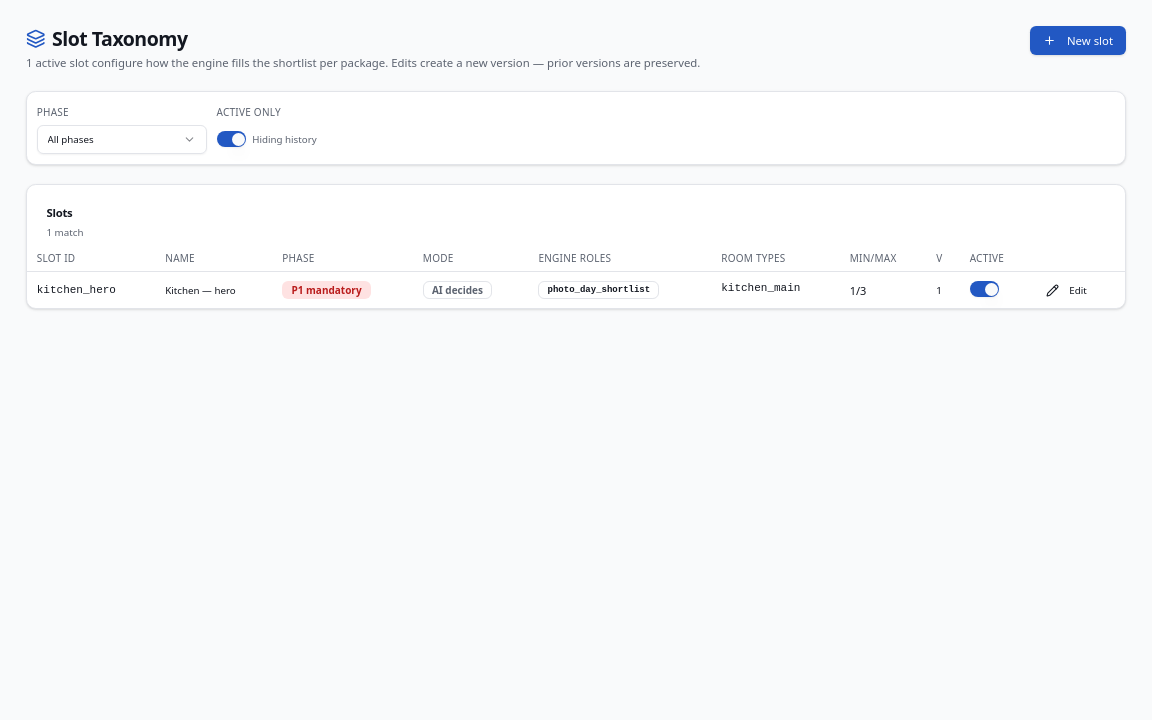
it: SettingsShortlistingSlots — W11.6.22b mode toggle › toggling to 'Curated positions' reveals the positions editor
What coordinates should you click on to do the following:
click the button "Edit"
I would click on:
 (1067, 290)
Its box is [1040,279,1093,301].
(page scrolled)
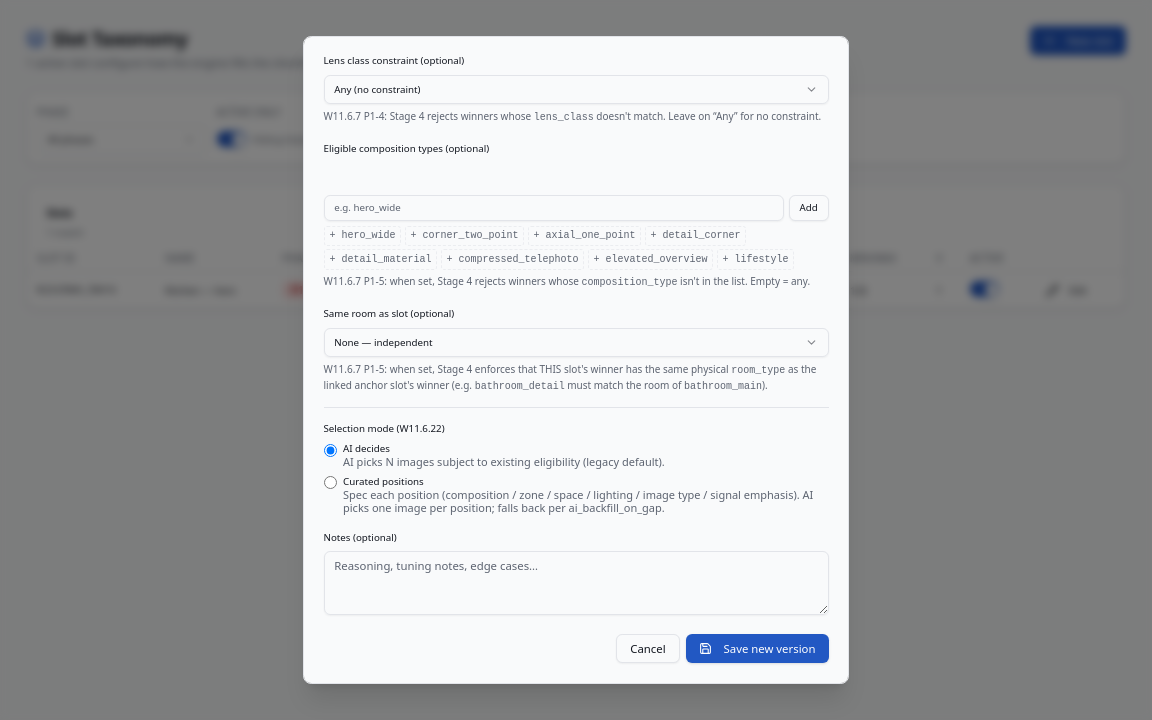
What coordinates should you click on to do the following:
click the radio button with test id "mode-curated"
I would click on:
 (330, 483)
Its box is [324,476,336,489].
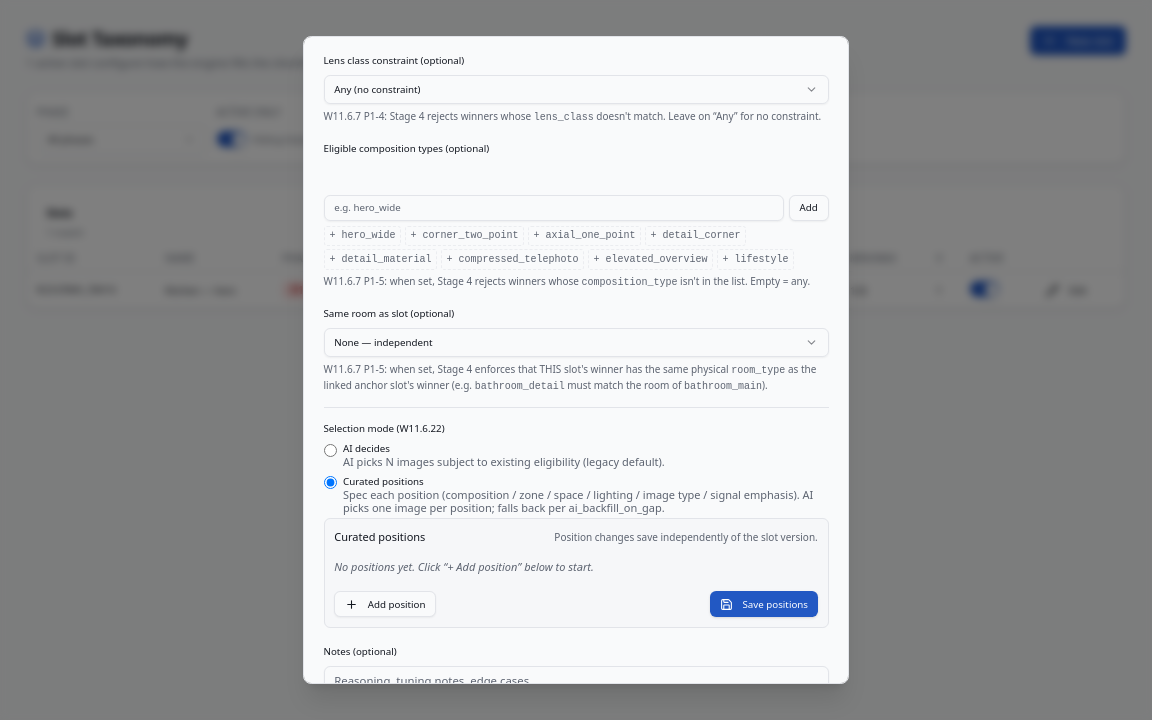
Expected: the radio button with test id "mode-curated" is checked, [324,476,336,489]
Expected: the element with test id "curated-positions-section" is shown, [324,518,828,628]
